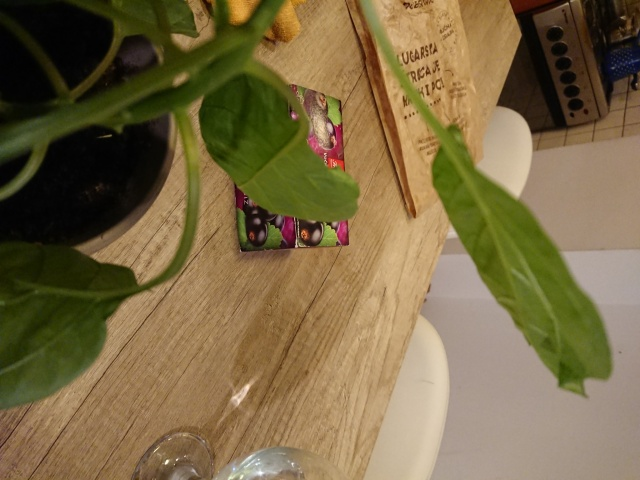Franck Black Currant Tea 60g: (227, 80, 352, 255)
